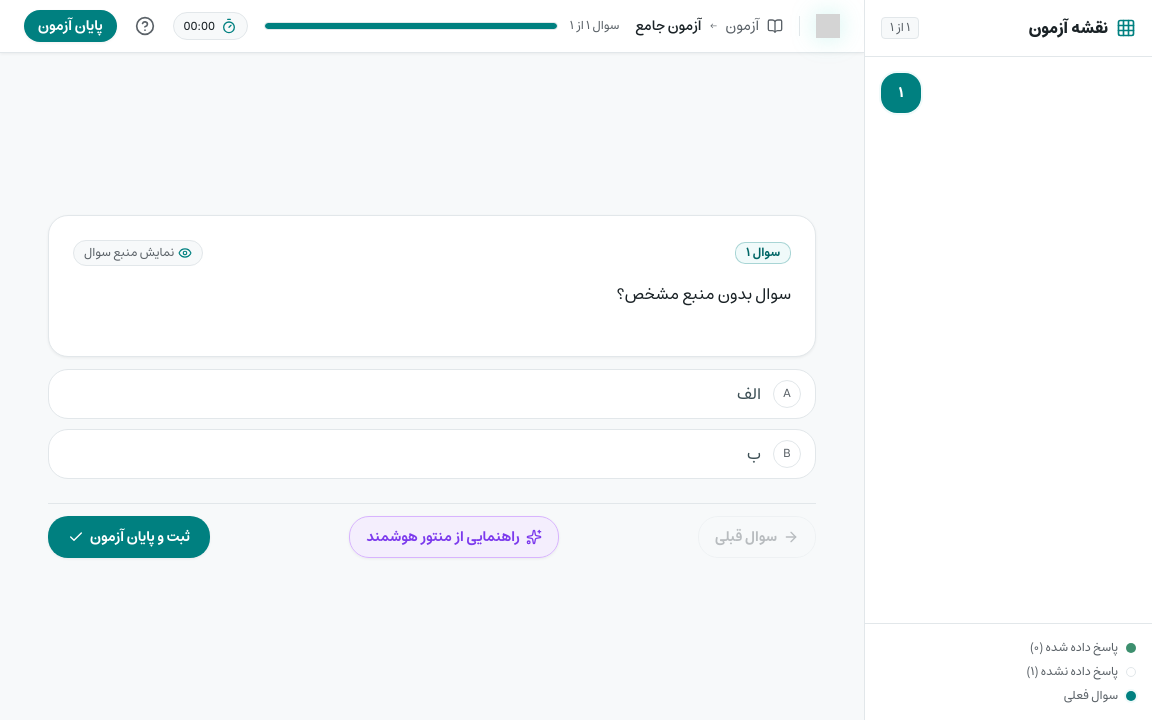
ExamTakingView Component › renders fallback درس: نامشخص when question has neither lesson nor topic
What coordinates should you click on to do the following:
click the button "نمایش منبع سوال"
I would click on:
 (138, 253)
Its box is [73,240,203,266].
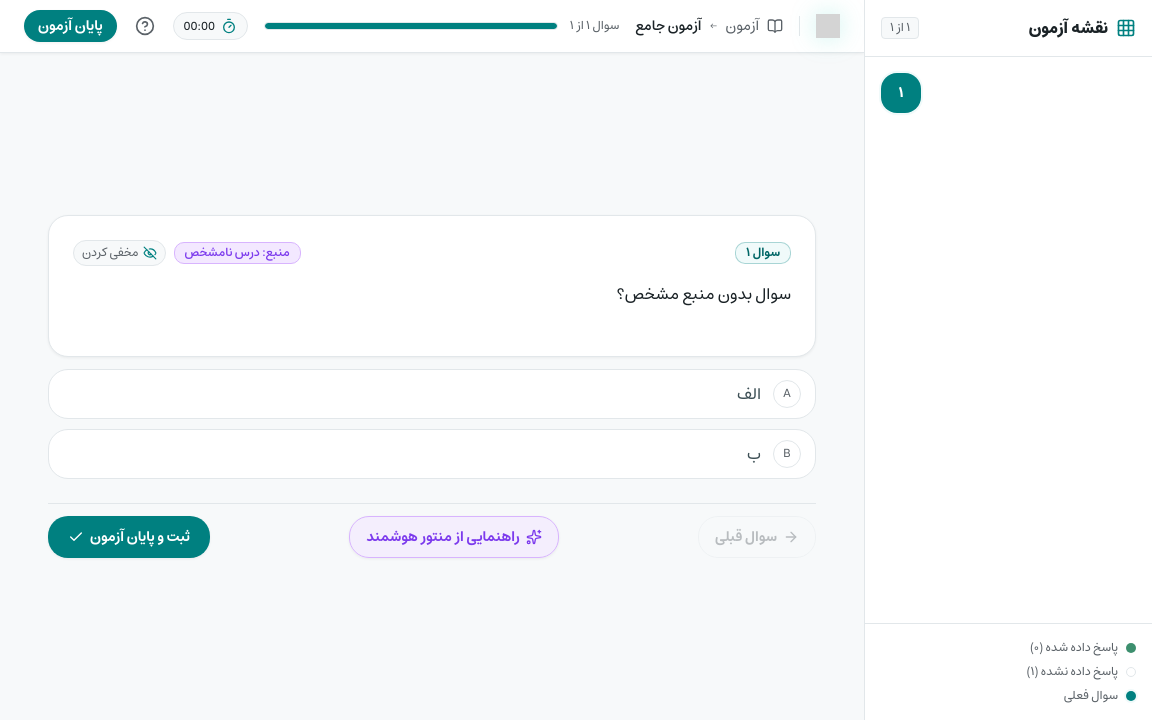
Expected: the text "منبع: درس نامشخص" is shown, [174,242,301,264]
